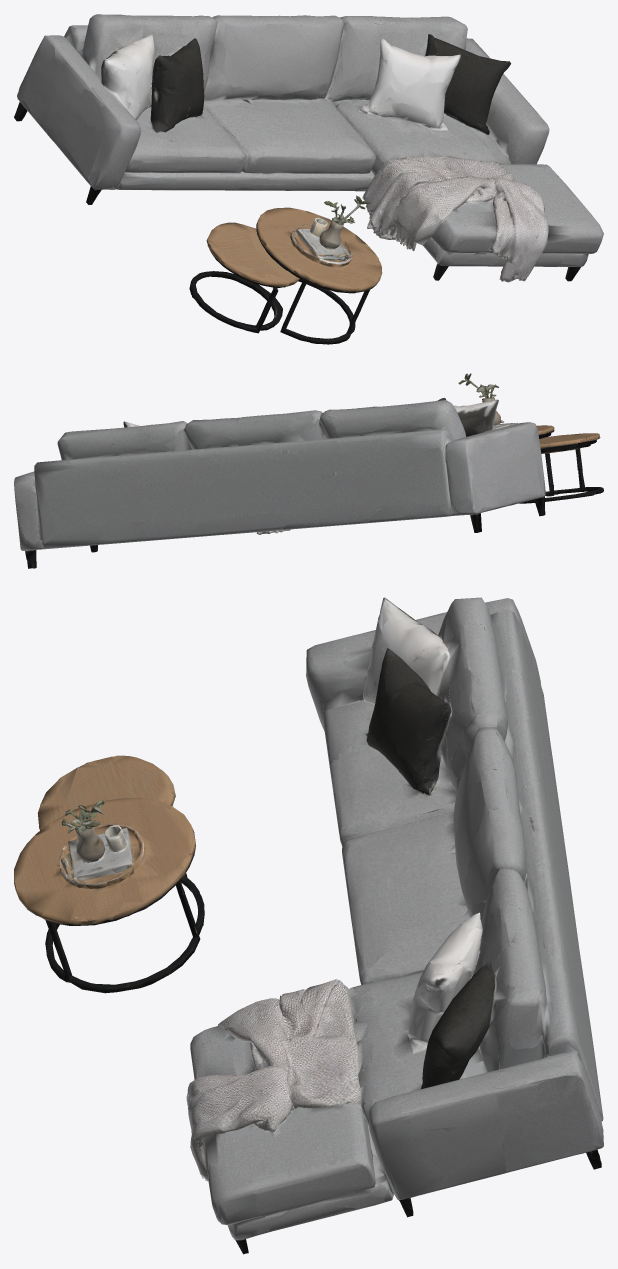
The model's file is sofa.glb.
3 renders of one model, top to bottom at view 1: azimuth 30°, elevation 25°; view 2: azimuth 150°, elevation 25°; view 3: azimuth 270°, elevation 25°, orthographic. The views are drawn at different scales.
Visible parts, largest first — view 1: node_id4; view 2: node_id4; view 3: node_id4.
Boxes of the visible parts, x1=… form: node_id4: x1=14, y1=14, x2=603, y2=344; node_id4: x1=14, y1=373, x2=603, y2=568; node_id4: x1=14, y1=597, x2=603, y2=1254.
Size of the model in its own units: 0.4515 by 0.2686 by 0.3578.
1 material, 1 textured.
